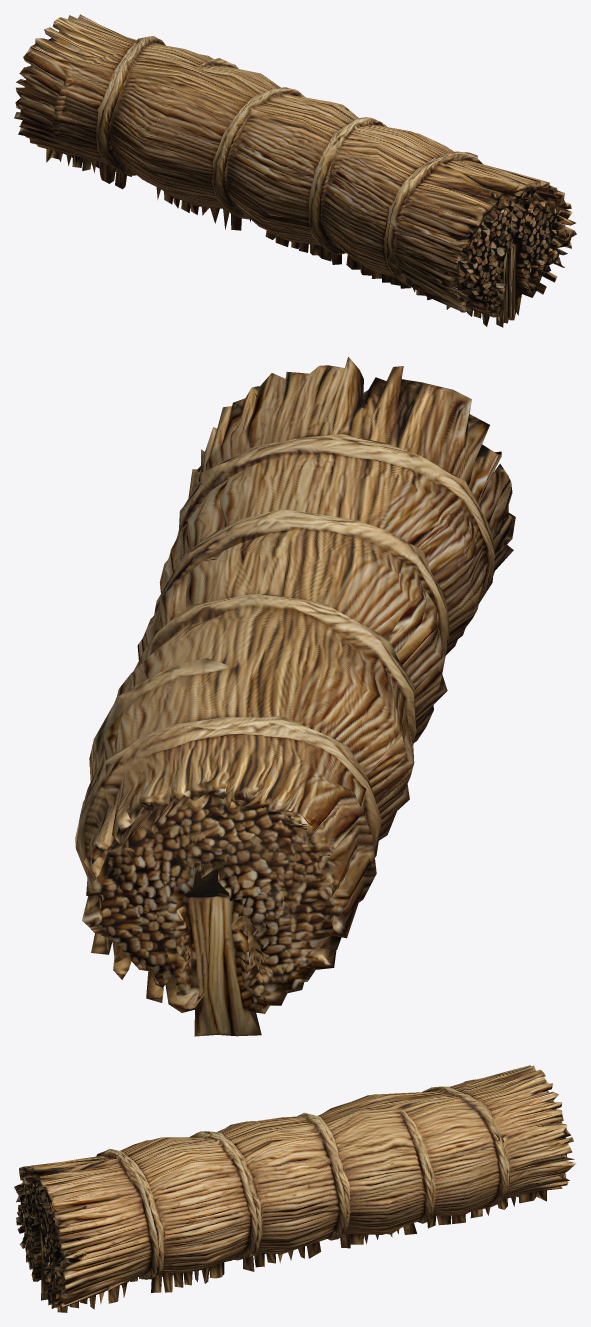
3 views of the same model, one above another, from view 1: azimuth 30°, elevation 25°; view 2: azimuth 150°, elevation 25°; view 3: azimuth 270°, elevation 25° (orthographic). The views are drawn at different scales.
Visible parts, largest first — view 1: tripo_node_2c57f04f-609a-42da-9387-59d43d10c176; view 2: tripo_node_2c57f04f-609a-42da-9387-59d43d10c176; view 3: tripo_node_2c57f04f-609a-42da-9387-59d43d10c176.
Boxes of the visible parts, left/top/right/bottom form: tripo_node_2c57f04f-609a-42da-9387-59d43d10c176: left=14, top=14, right=576, bottom=327; tripo_node_2c57f04f-609a-42da-9387-59d43d10c176: left=75, top=357, right=515, bottom=1036; tripo_node_2c57f04f-609a-42da-9387-59d43d10c176: left=14, top=1065, right=576, bottom=1312.
Bounding box in the file's own units: 0.6102 × 0.2877 × 0.9814.
1 material, 1 textured.
